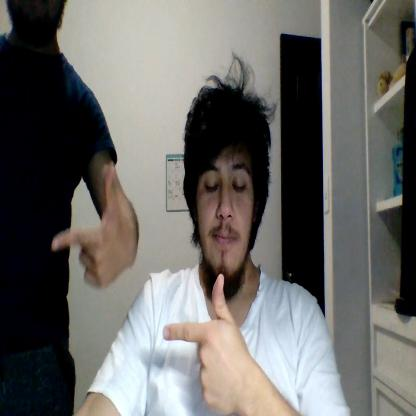G: (162, 272, 244, 414), (51, 166, 125, 290)
